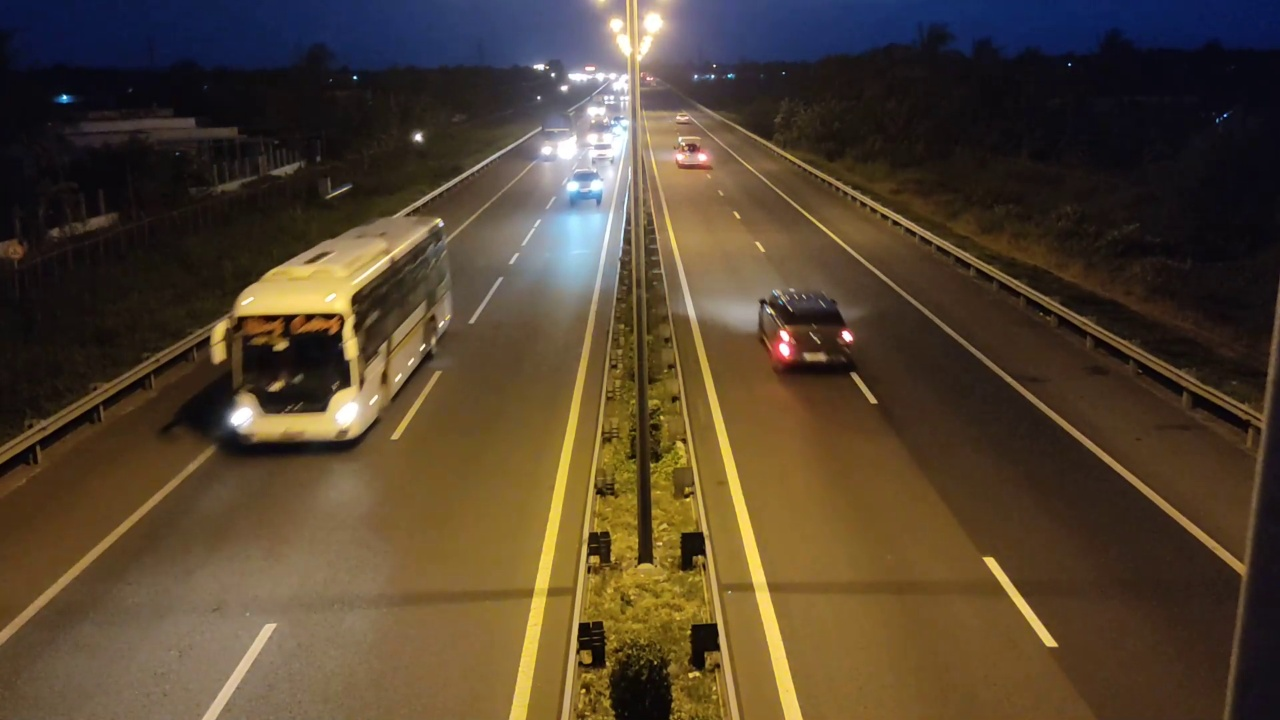bus: (221, 215, 454, 449)
car: (757, 288, 857, 373), (563, 169, 604, 207), (673, 137, 713, 169)
